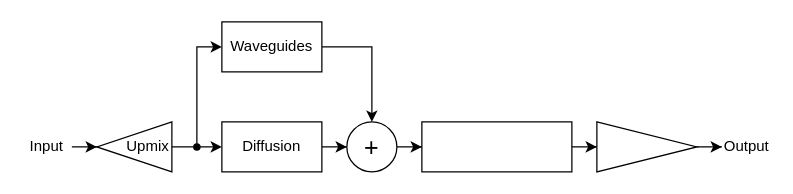
This 793x194 diagram has some shape labels left out. Each missing label, with the centre of its shape:
"Downmix" goes at (646,146).
"Feedback Delay Network" goes at (496,146).
